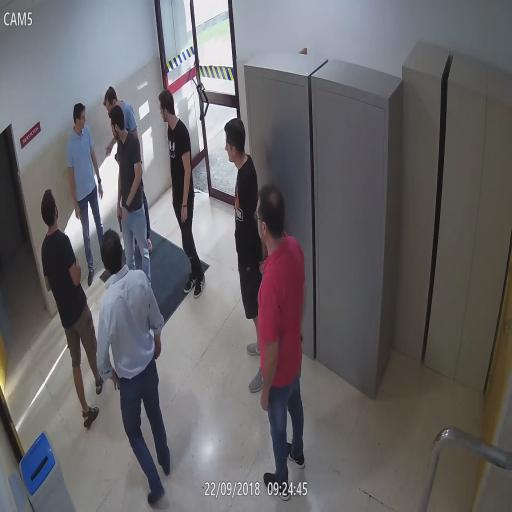Handgun: (114, 206, 123, 232)
